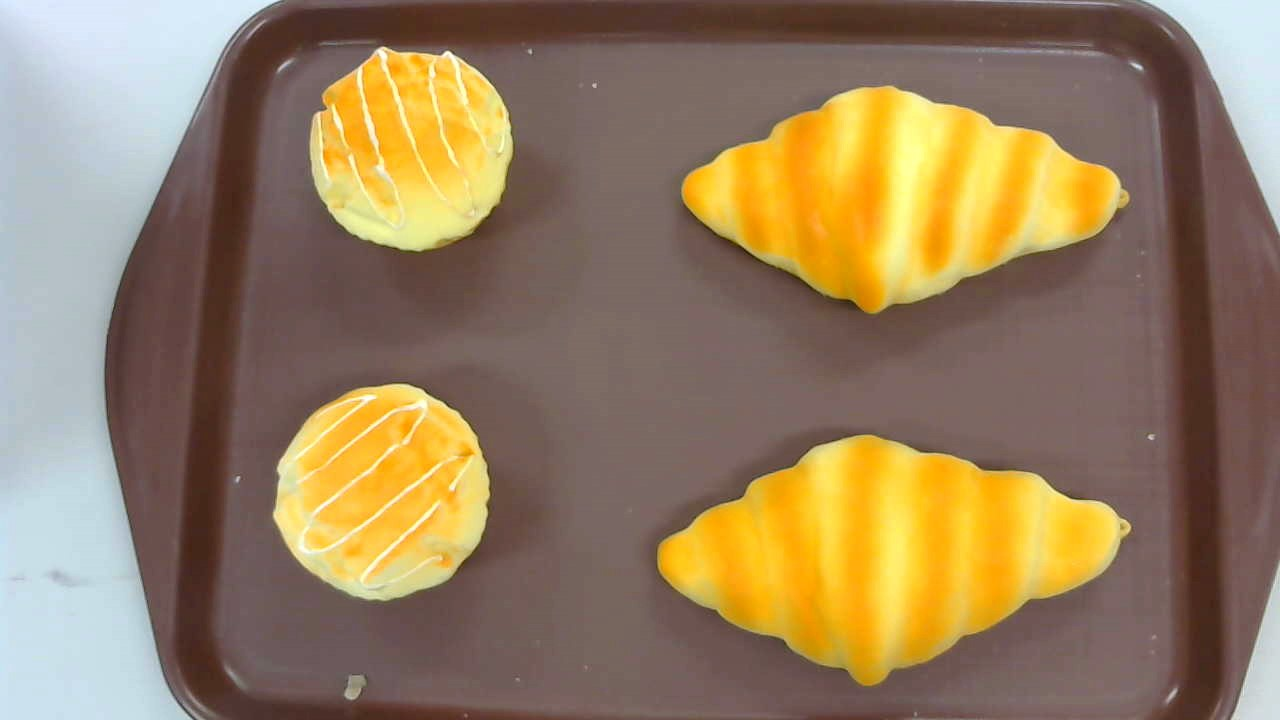croissant: (658, 433, 1132, 688), (680, 83, 1130, 315)
cupcake: (272, 381, 491, 602), (309, 46, 514, 253)
